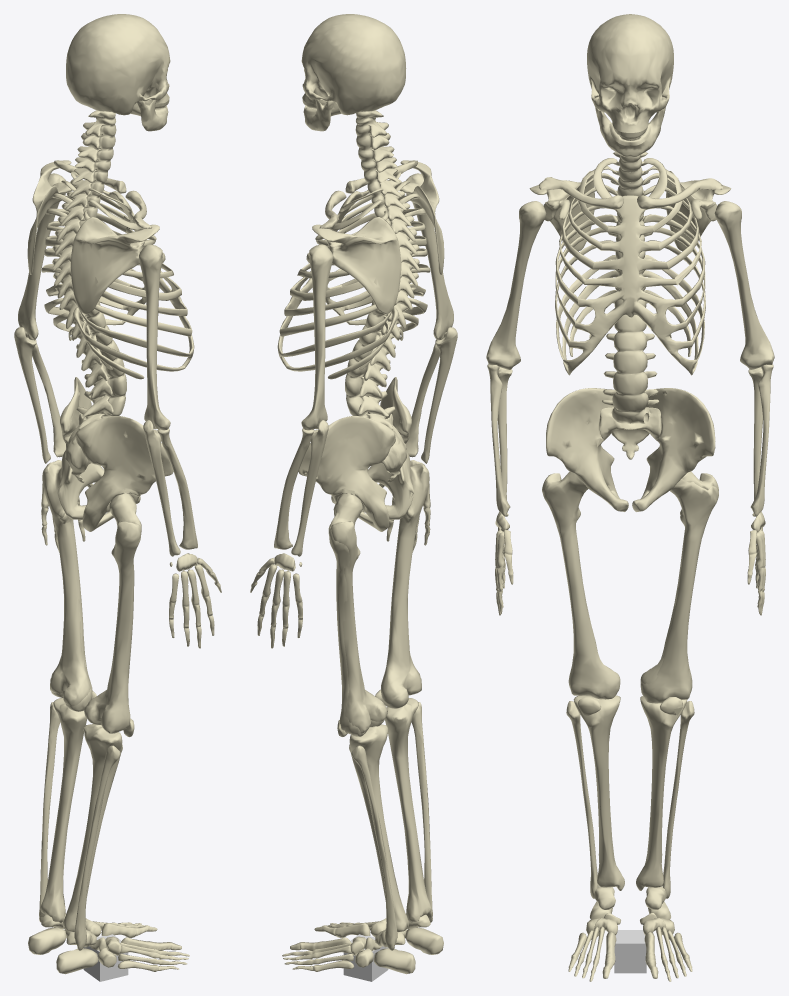
Rendered from namedskeleton.glb.
3 renders of one model, left to right at view 1: azimuth 30°, elevation 25°; view 2: azimuth 150°, elevation 25°; view 3: azimuth 270°, elevation 25°, orthographic.
Parts seen in each view (by area): view 1: 3DSMeshMatrix.049, 3DSMeshMatrix.048, 3DSMeshMatrix.044, 3DSMeshMatrix.047, 3DSMeshMatrix.013, 3DSMeshMatrix.046, 3DSMeshMatrix.030, 3DSMeshMatrix.017, 3DSMeshMatrix.033, 3DSMeshMatrix.015, 3DSMeshMatrix.014, 3DSMeshMatrix.052 (+31 smaller); view 2: 3DSMeshMatrix.049, 3DSMeshMatrix.048, 3DSMeshMatrix.044, 3DSMeshMatrix.047, 3DSMeshMatrix.030, 3DSMeshMatrix.046, 3DSMeshMatrix.013, 3DSMeshMatrix.017, 3DSMeshMatrix.032, 3DSMeshMatrix.053, 3DSMeshMatrix.015, Cranium (+32 smaller); view 3: 3DSMeshMatrix.044, 3DSMeshMatrix.046, 3DSMeshMatrix.051, 3DSMeshMatrix.048, Femur, 3DSMeshMatrix.049, 3DSMeshMatrix.030, 3DSMeshMatrix.014, femur, 3DSMeshMatrix.053, tibia.001, 3DSMeshMatrix.015 (+27 smaller).
Boxes of the visible parts, x1,y1,x2,y2 form: 3DSMeshMatrix.049: (52, 110, 126, 481); 3DSMeshMatrix.048: (66, 14, 170, 103); 3DSMeshMatrix.044: (57, 377, 168, 523); 3DSMeshMatrix.047: (27, 160, 159, 312); 3DSMeshMatrix.013: (42, 463, 90, 706); 3DSMeshMatrix.046: (41, 171, 192, 376); 3DSMeshMatrix.030: (84, 493, 141, 731); 3DSMeshMatrix.017: (41, 178, 192, 379); 3DSMeshMatrix.033: (56, 930, 189, 973); 3DSMeshMatrix.015: (58, 382, 173, 531); 3DSMeshMatrix.014: (52, 112, 126, 482); 3DSMeshMatrix.052: (40, 698, 85, 920); 3DSMeshMatrix.049: (345, 110, 419, 481); 3DSMeshMatrix.048: (301, 14, 406, 103); 3DSMeshMatrix.044: (299, 377, 414, 522); 3DSMeshMatrix.047: (312, 160, 444, 312); 3DSMeshMatrix.030: (381, 463, 429, 706); 3DSMeshMatrix.046: (279, 171, 430, 376); 3DSMeshMatrix.013: (330, 493, 387, 733); 3DSMeshMatrix.017: (280, 178, 430, 379); 3DSMeshMatrix.032: (282, 929, 415, 973); 3DSMeshMatrix.053: (385, 698, 431, 921); 3DSMeshMatrix.015: (298, 382, 413, 531); Cranium: (302, 58, 405, 115); 3DSMeshMatrix.044: (546, 388, 715, 510); 3DSMeshMatrix.046: (555, 158, 705, 372); 3DSMeshMatrix.051: (563, 195, 697, 365); 3DSMeshMatrix.048: (587, 14, 673, 132); Femur: (640, 478, 718, 703); 3DSMeshMatrix.049: (599, 135, 661, 458); 3DSMeshMatrix.030: (542, 471, 620, 699); 3DSMeshMatrix.014: (599, 136, 661, 459); femur: (542, 478, 620, 699); 3DSMeshMatrix.053: (573, 695, 624, 890); tibia.001: (636, 701, 686, 890); 3DSMeshMatrix.015: (546, 393, 715, 511).
Bounding box in the file's own units: 9 × 64.52 × 17.7.
Materials: 4 (2 with a texture image).
